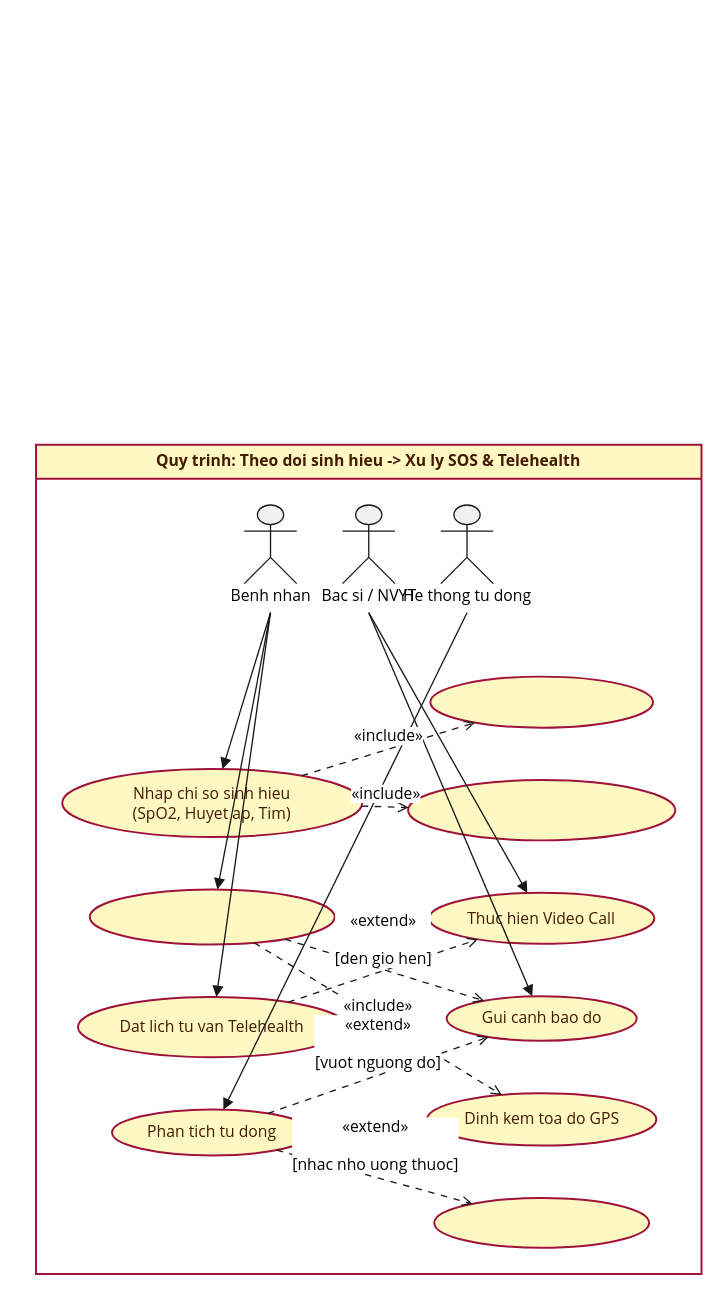
The diagram is 724 pixels wide and 1297 high, and some of its shapes have lost their labels. The centre of each missing label's shape, as x and y in pixels:
"Gui thong bao FCM" goes at point (541, 1222).
"Kich hoa khan cap SOS" goes at point (211, 916).
"Kiem tra nguoi y te chuan" goes at point (541, 810).
"Luu nhat ky 30 ngay" goes at point (541, 701).
